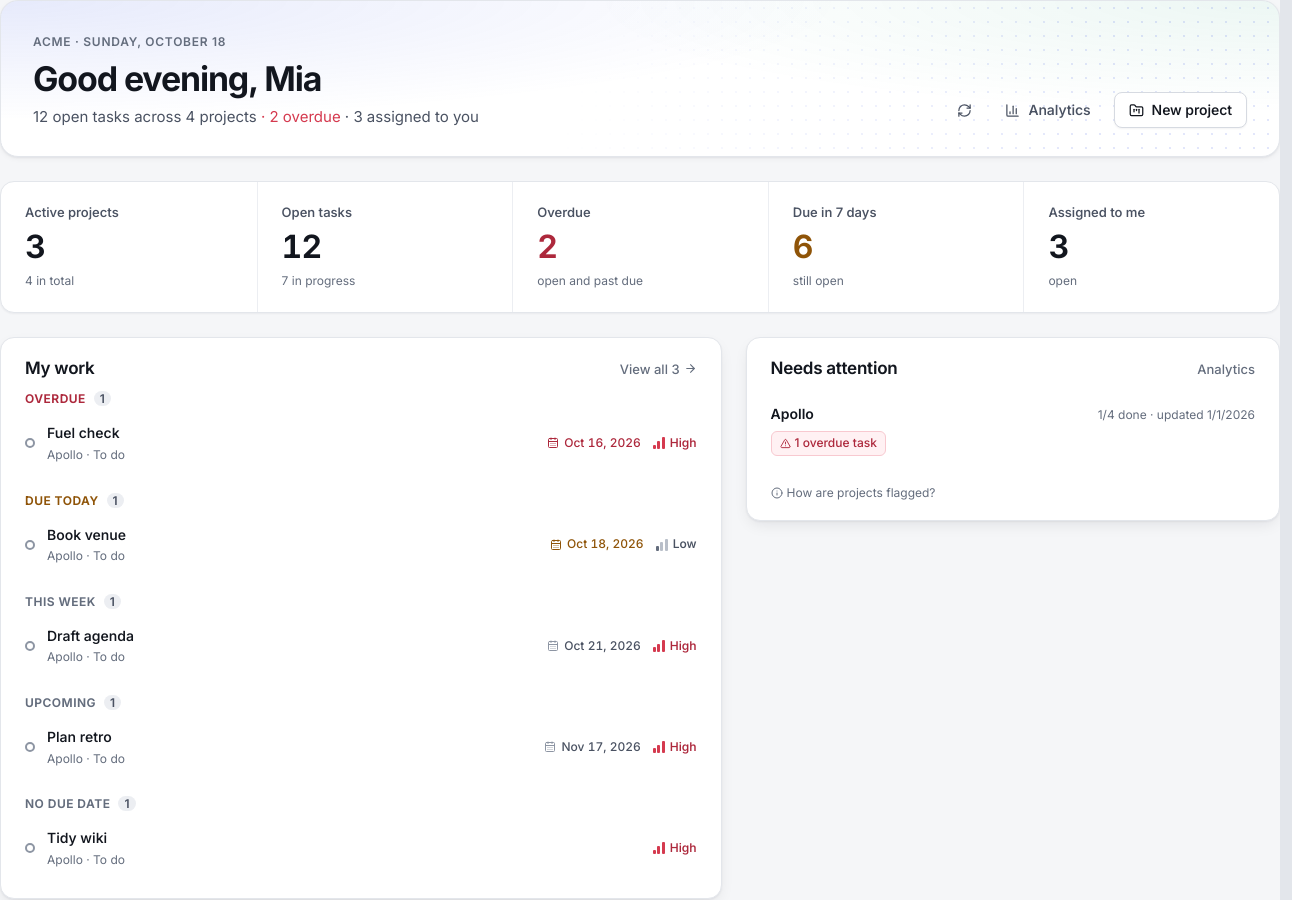
Dashboard › a failed refresh keeps the last good data visible
The image size is (1292, 900).
Check: the link with aria-label "Open tasks: 12. View open tasks" is shown, box [257,182,512,312]
Step 1. Click the button named "Refresh" → (964, 110), box [946,92,982,128]
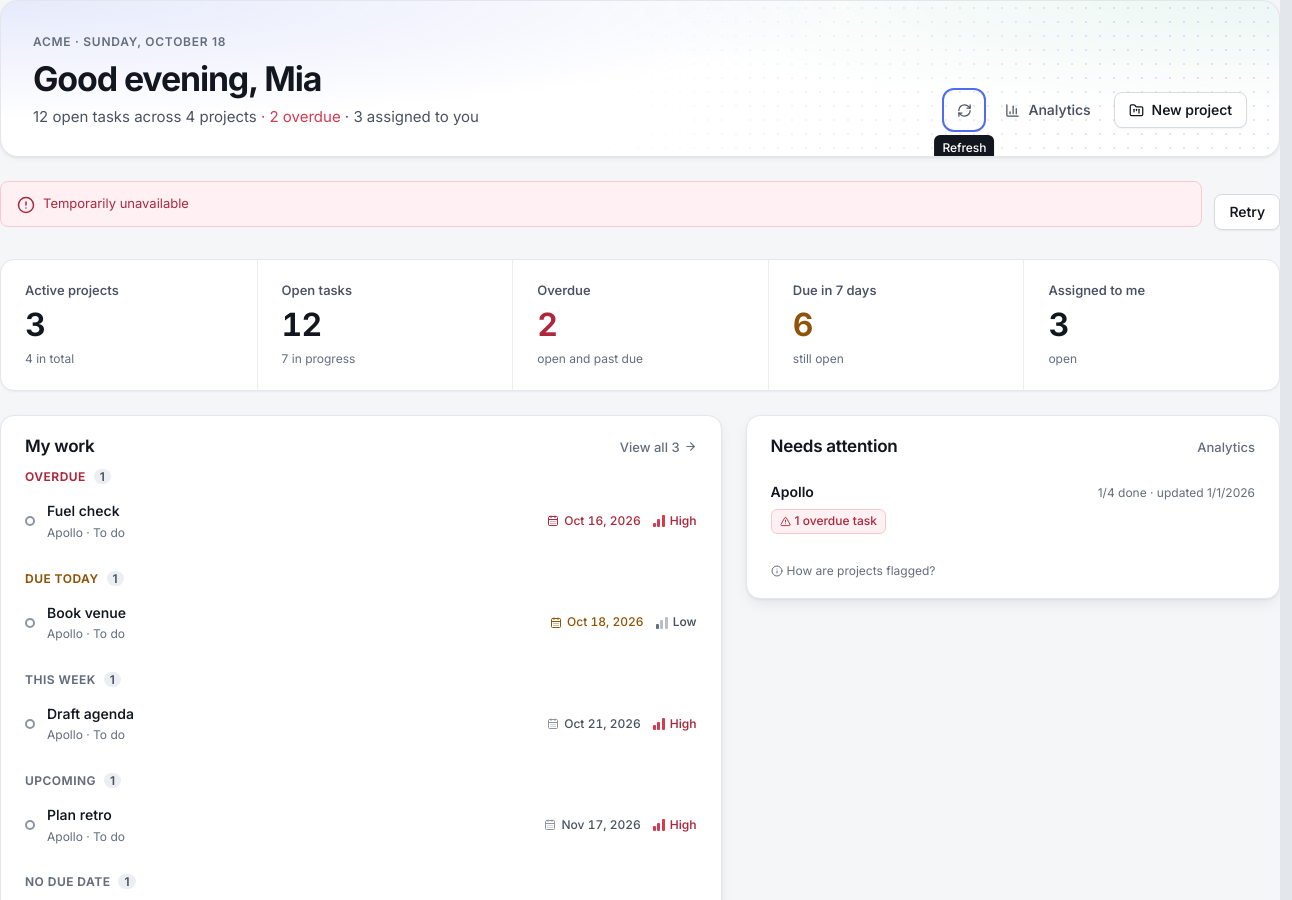
Check: the link with aria-label "Open tasks: 12. View open tasks" is shown, box [257,260,512,390]
Check: the text "Temporarily unavailable" is shown, box [43,194,189,214]
Step 2. Click the button "Retry" → (1247, 212), box [1214,194,1280,230]
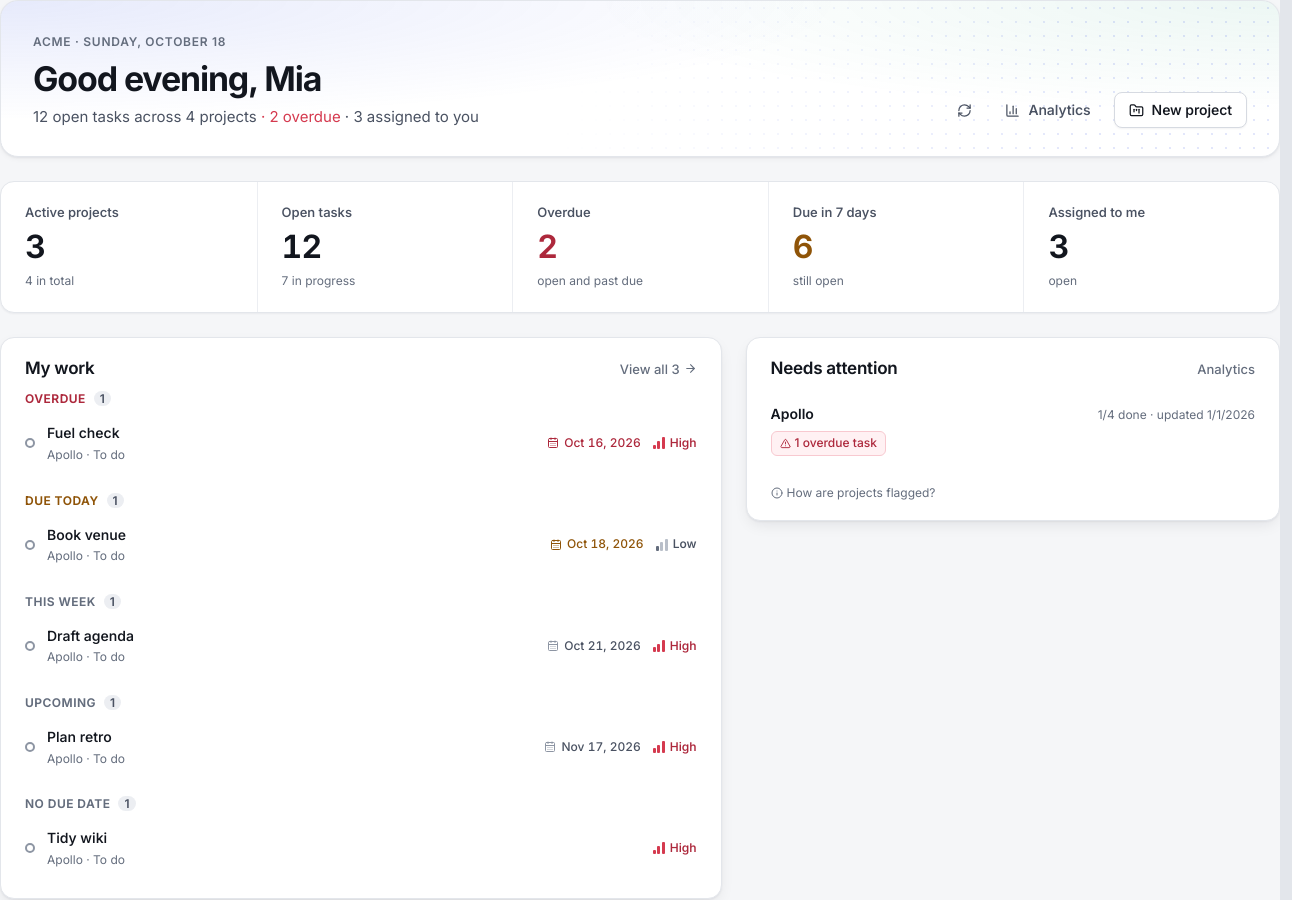
Check: the text "Temporarily unavailable" is gone
